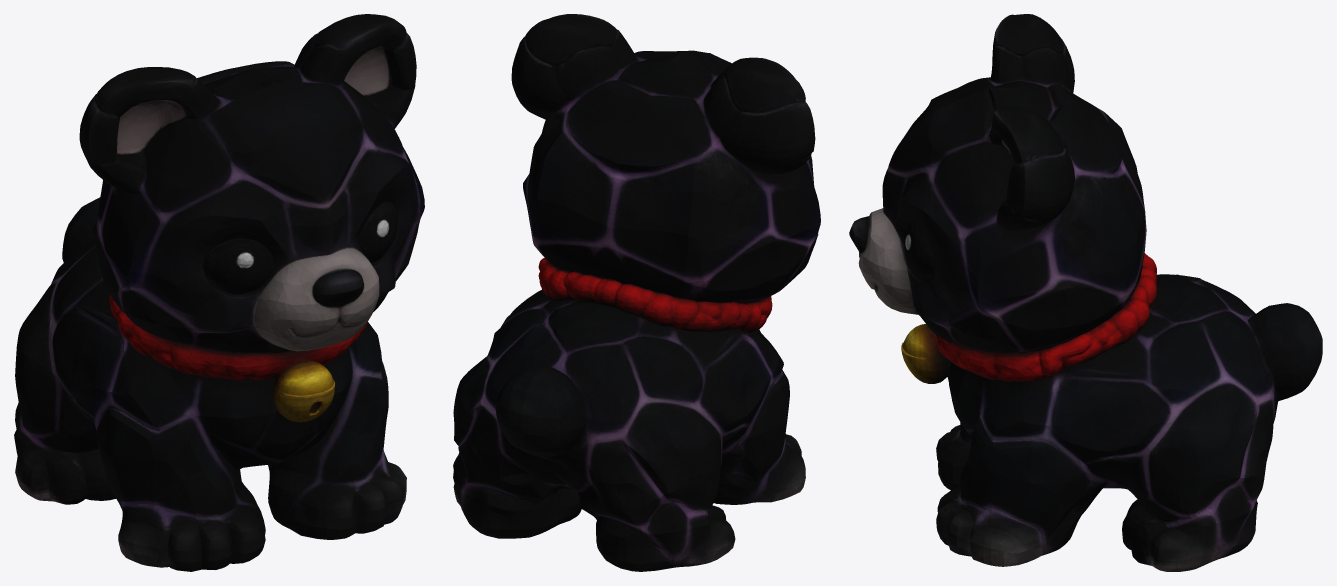
File: obby_raw.glb
3 renders of one model, left to right at view 1: azimuth 30°, elevation 25°; view 2: azimuth 150°, elevation 25°; view 3: azimuth 270°, elevation 25°, orthographic. The views are drawn at different scales.
Parts seen in each view (by area): view 1: world; view 2: world; view 3: world.
Part boxes in pixels (left/top/right/bottom): world: left=14, top=14, right=424, bottom=571; world: left=453, top=14, right=820, bottom=571; world: left=849, top=14, right=1322, bottom=571.
Bounding box in the file's own units: 0.715 × 0.9955 × 0.9674.
1 material, 1 textured.
